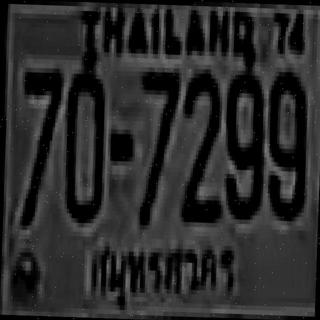N00: (61, 64, 106, 219)
N02: (180, 68, 222, 218)
N07: (17, 65, 59, 224), (136, 67, 178, 222)
N09: (220, 70, 264, 215), (264, 67, 306, 217)
P58: (83, 226, 242, 307)
